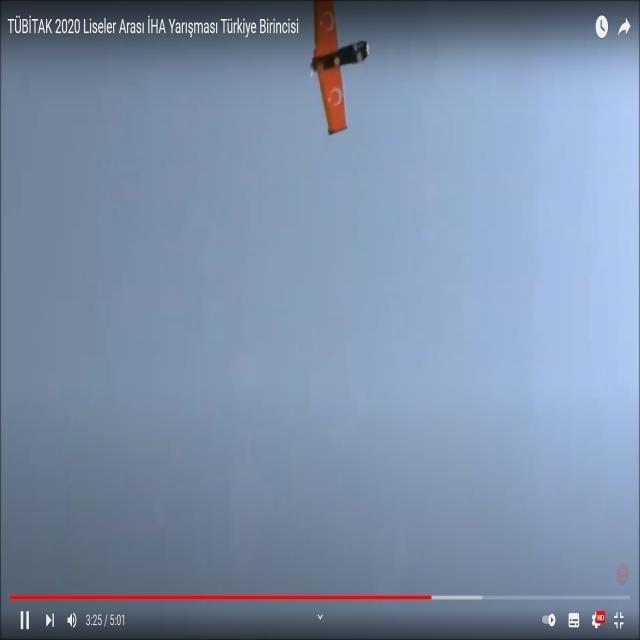Airplane: (297, 0, 373, 152)
